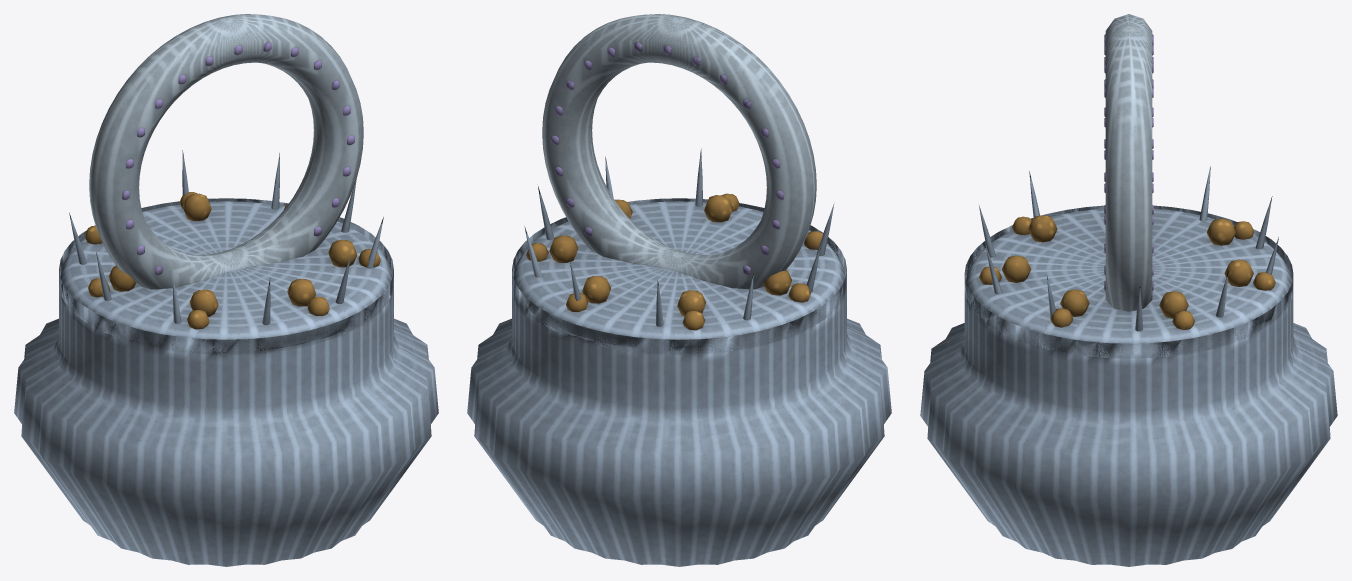
The model's file is landmark_ring.glb.
The picture shows the model from 3 angles, left to right: view 1: azimuth 30°, elevation 25°; view 2: azimuth 150°, elevation 25°; view 3: azimuth 270°, elevation 25°; orthographic projection.
Visible parts, largest first — view 1: LandmarkRing, Growth_Beads, Growth_Needles; view 2: LandmarkRing, Growth_Beads, Growth_Needles; view 3: LandmarkRing, Growth_Beads, Growth_Needles.
Boxes of the visible parts, box(x1,y1,x2,y2) form: LandmarkRing: box(14, 14, 438, 566); Growth_Beads: box(84, 192, 380, 329); Growth_Needles: box(69, 150, 383, 324); LandmarkRing: box(467, 14, 891, 566); Growth_Beads: box(526, 193, 822, 330); Growth_Needles: box(524, 148, 834, 326); LandmarkRing: box(920, 14, 1337, 566); Growth_Beads: box(979, 215, 1275, 329); Growth_Needles: box(979, 166, 1278, 331).
Size of the model in its own units: 5.07 by 6.6 by 5.07.
Materials: 4 (4 with a texture image).
